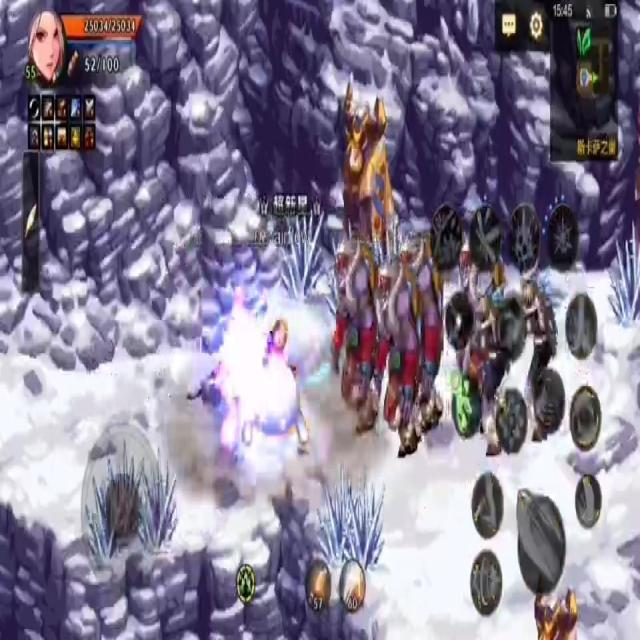player: (235, 314, 312, 452)
